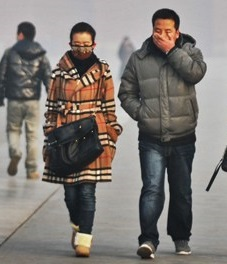person: (118, 8, 209, 259), (42, 21, 124, 258), (2, 20, 54, 182)
